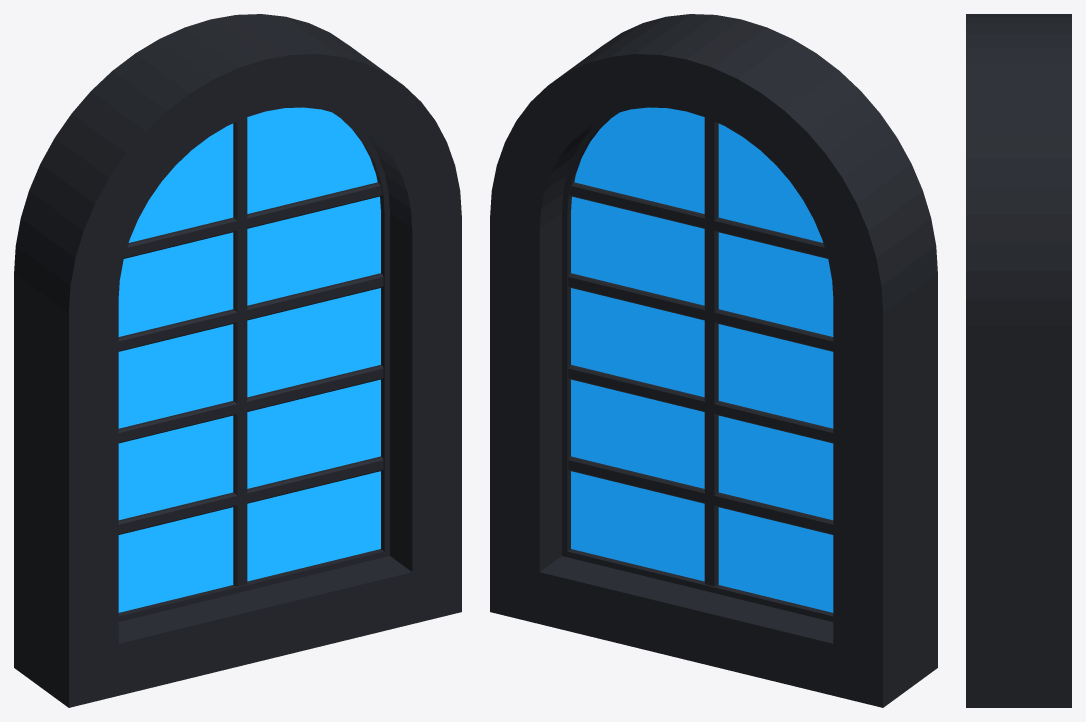
Rendered from janela_arco_2x5_preta.glb.
The picture shows the model from 3 angles, left to right: view 1: azimuth 30°, elevation 25°; view 2: azimuth 150°, elevation 25°; view 3: azimuth 270°, elevation 25°; orthographic projection. The views are drawn at different scales.
Visible parts, largest first — view 1: janela_arco_2x5_preta; view 2: janela_arco_2x5_preta; view 3: janela_arco_2x5_preta.
Boxes of the visible parts, x1=… form: janela_arco_2x5_preta: x1=14, y1=14, x2=461, y2=707; janela_arco_2x5_preta: x1=490, y1=14, x2=937, y2=707; janela_arco_2x5_preta: x1=966, y1=14, x2=1071, y2=707.
Size of the model in its own units: 0.87 by 1.27 by 0.21.
